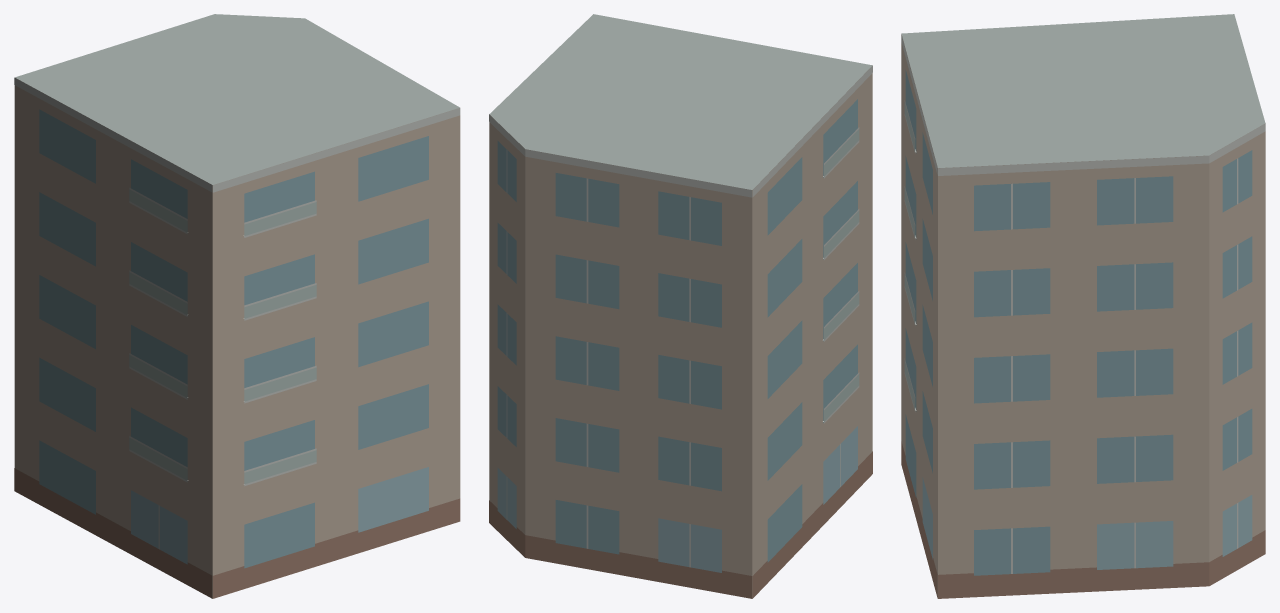
The model's file is survey-upis-32526511.glb.
The picture shows the model from 3 angles, left to right: view 1: azimuth 30°, elevation 25°; view 2: azimuth 150°, elevation 25°; view 3: azimuth 270°, elevation 25°; orthographic projection. The views are drawn at different scales.
Visible parts, largest first — view 1: survey-upis-32526511.tmp; view 2: survey-upis-32526511.tmp; view 3: survey-upis-32526511.tmp.
Boxes of the visible parts, x1,y1,x2,y2 form: survey-upis-32526511.tmp: (14,14,460,598); survey-upis-32526511.tmp: (489,14,872,598); survey-upis-32526511.tmp: (901,14,1265,598).
Size of the model in its own units: 10.14 by 13.2 by 10.12.
